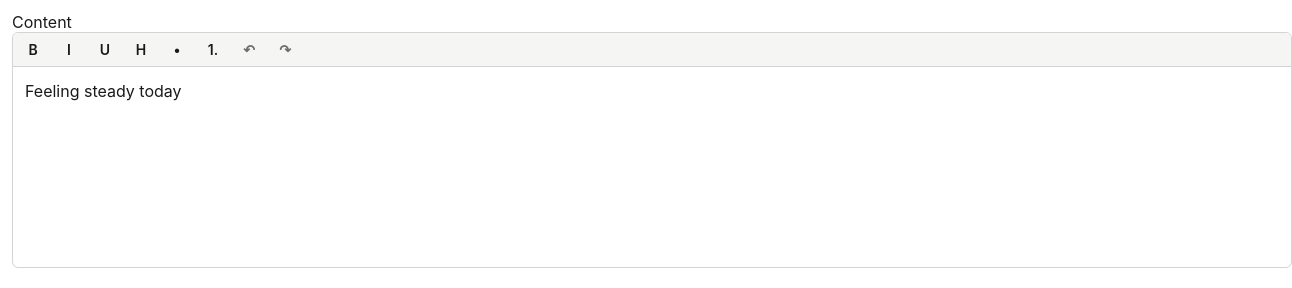
it: ContentEditor › enables undo only once there is something to undo
The image size is (1292, 288).
Expected: the field named "Content" is shown, [25, 81, 182, 101]
Expected: the button named "Undo" is disabled, [233, 37, 265, 62]
Click the button named "Bullet list" at point(177, 50), box [161, 37, 193, 62]
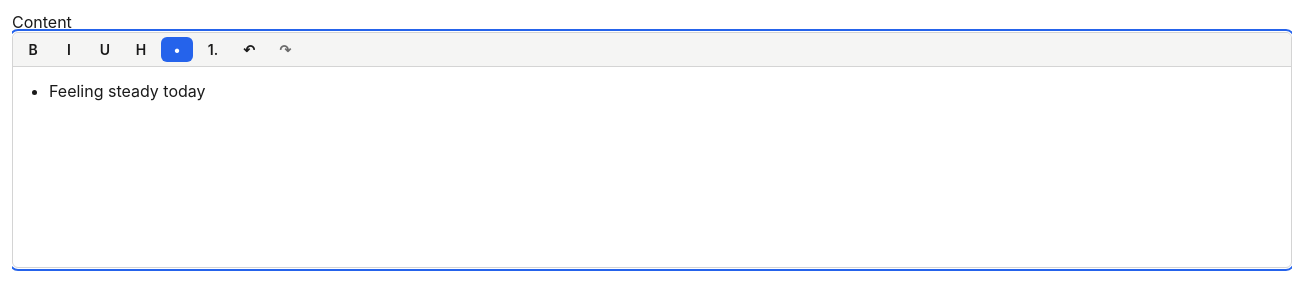
Now the button named "Undo" is enabled, box [233, 37, 265, 62]
